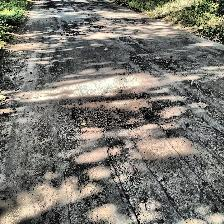pothole: (68, 87, 156, 131)
